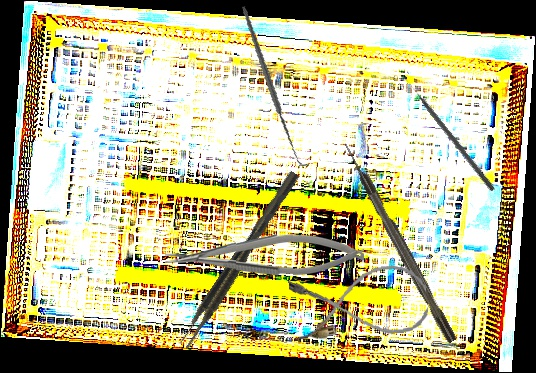Cannula: (287, 262, 431, 344)
Hook Surgical: (340, 140, 458, 345), (213, 4, 337, 168)
Needle Holder: (164, 231, 365, 278)
Pusher: (404, 76, 497, 193)
Tissue Forceps: (175, 170, 305, 351)
